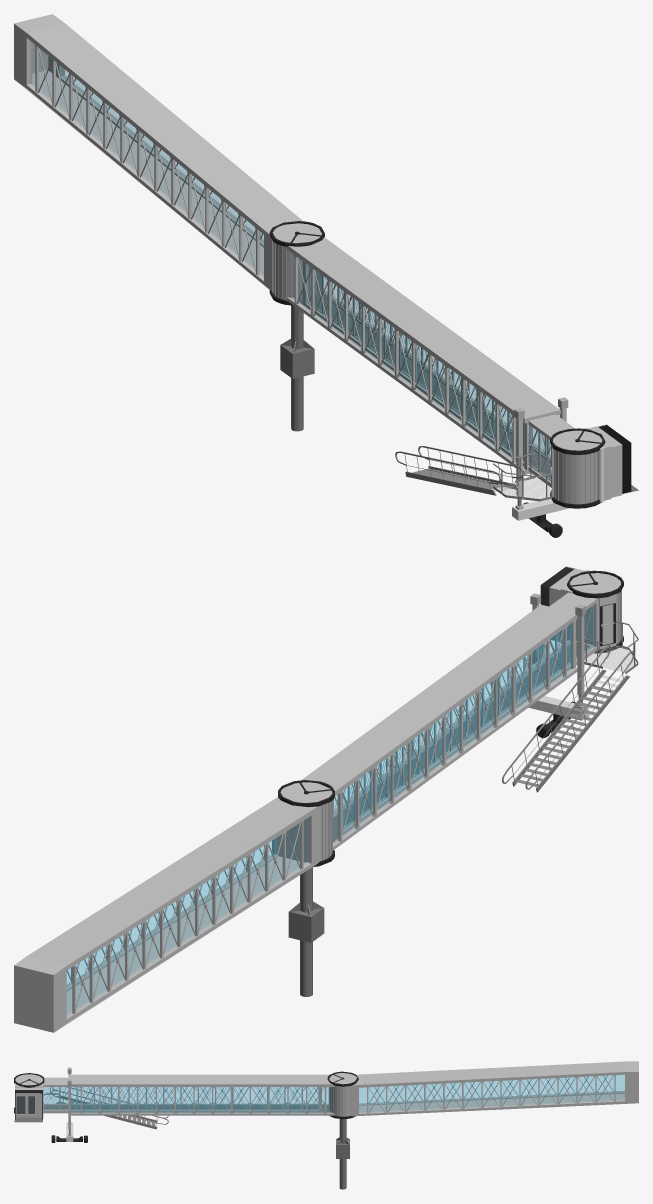
File: jetbridge_LOD.glb
3 views of the same model, one above another, from view 1: azimuth 30°, elevation 25°; view 2: azimuth 150°, elevation 25°; view 3: azimuth 270°, elevation 25° (orthographic). The views are drawn at different scales.
Parts seen in each view (by area): view 1: Static part, Moving_part_1, Moving_part_2, Rotunda, Trusses, Rotunda2, Beams 2, Trusses 2, Cab, Cylinder, Rotunda Top, Concrete (+6 smaller); view 2: Static part, Moving_part_1, Moving_part_2, Trusses, Rotunda, Trusses 2, Beams 2, Stair Rails.010, Rotunda Top, Cylinder, Concrete, Stair Rails.038 (+4 smaller); view 3: Static part, Moving_part_1, Moving_part_2, Trusses 2, Trusses, Rotunda, Cab, Beams 2, Cylinder, Rotunda Top, Connector, Stair Rails.038 (+2 smaller).
Boxes of the visible parts, box(x1,y1,x2,y2) form: Static part: box(14, 14, 302, 290); Moving_part_1: box(286, 237, 560, 474); Moving_part_2: box(294, 261, 574, 487); Rotunda: box(269, 221, 324, 305); Trusses: box(296, 257, 544, 461); Rotunda2: box(553, 449, 598, 504); Beams 2: box(308, 265, 546, 472); Trusses 2: box(308, 267, 550, 480); Cab: box(583, 426, 622, 500); Cylinder: box(291, 305, 303, 431); Rotunda Top: box(550, 428, 605, 454); Concrete: box(280, 339, 314, 378); Static part: box(14, 797, 320, 1032); Moving_part_1: box(301, 604, 577, 850); Moving_part_2: box(333, 592, 599, 842); Trusses: box(334, 629, 565, 839); Rotunda: box(278, 780, 334, 866); Trusses 2: box(333, 606, 593, 834); Beams 2: box(333, 605, 593, 820); Stair Rails.010: box(507, 650, 627, 786); Rotunda Top: box(567, 570, 623, 598); Cylinder: box(300, 867, 312, 996); Concrete: box(288, 901, 324, 942); Stair Rails.038: box(512, 675, 622, 792); Static part: box(349, 1061, 638, 1116); Moving_part_1: box(68, 1074, 334, 1115); Moving_part_2: box(43, 1077, 331, 1113); Trusses 2: box(43, 1087, 317, 1110); Trusses: box(82, 1087, 324, 1113); Rotunda: box(327, 1071, 358, 1119); Cab: box(15, 1084, 43, 1117); Beams 2: box(59, 1087, 302, 1110); Cylinder: box(339, 1119, 346, 1189); Rotunda Top: box(14, 1073, 44, 1087); Connector: box(14, 1090, 42, 1122); Stair Rails.038: box(64, 1097, 157, 1129).
Size of the model in its own units: 4.88 by 9.5 by 44.35.
11 materials, 1 textured.
